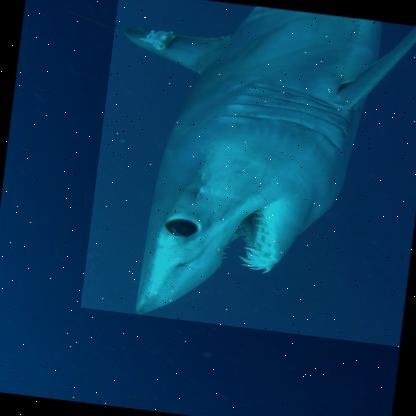mako-shark: (80, 0, 415, 346)
